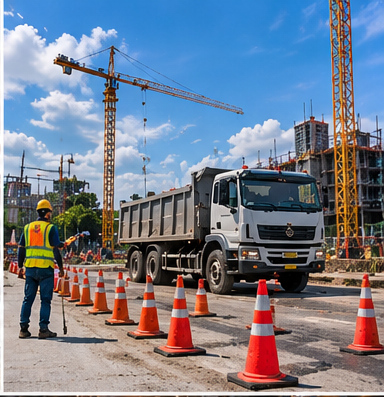crane: (57, 35, 165, 288)
hardhat: (32, 198, 54, 212)
person: (12, 194, 72, 337)
safety_cone: (227, 280, 308, 391), (159, 281, 204, 354), (344, 270, 381, 358), (131, 274, 159, 342), (109, 271, 133, 326), (193, 275, 218, 321), (94, 268, 109, 315), (79, 267, 93, 307), (66, 267, 82, 301), (56, 264, 67, 301)
safety_vest: (20, 220, 54, 273)
truck: (108, 169, 325, 287)
